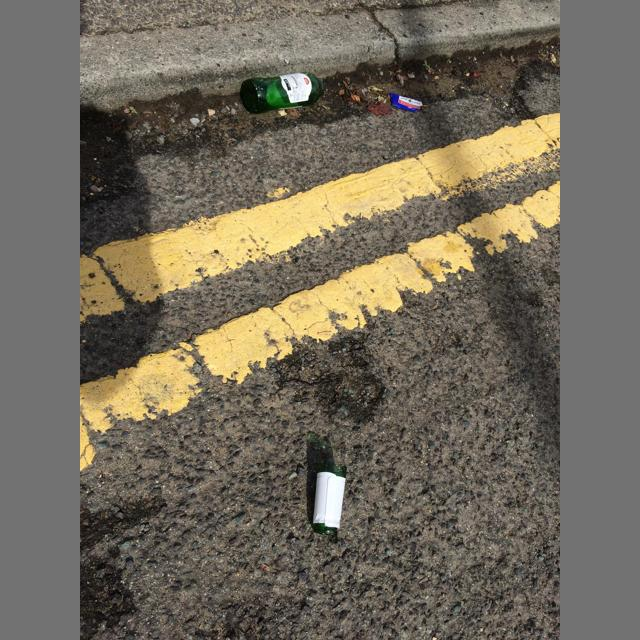litter: (240, 72, 324, 114), (313, 460, 347, 535), (390, 93, 423, 112)
